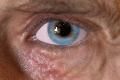eye: (49, 21, 80, 44)
